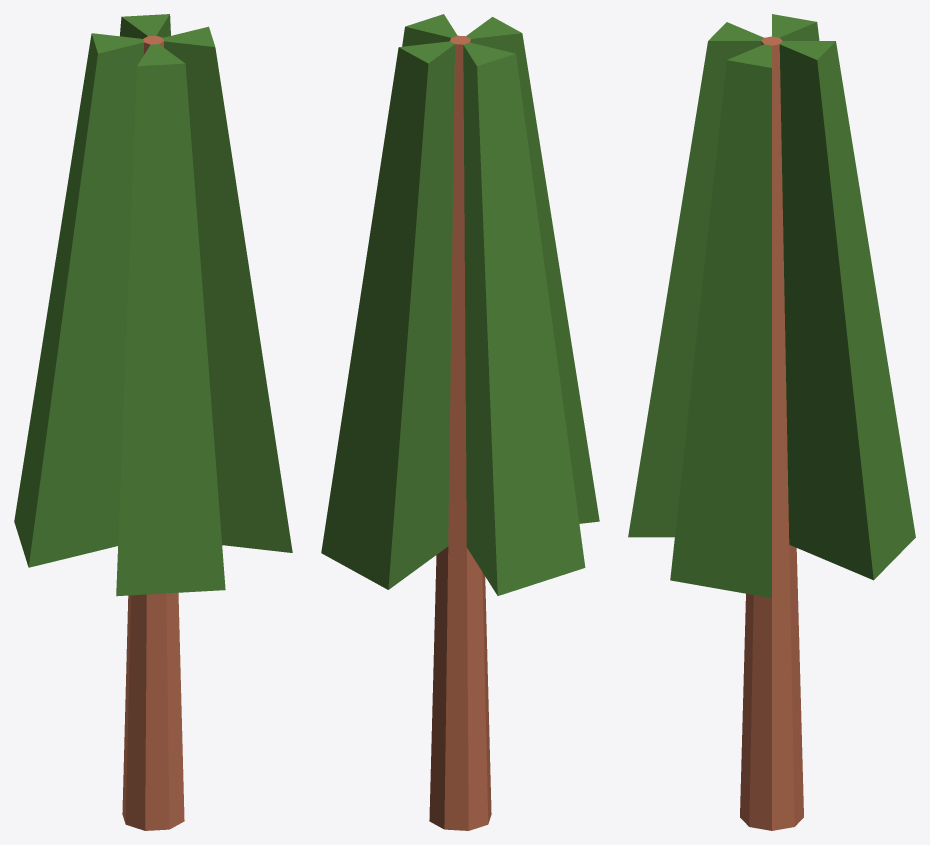
Rendered from Tree_28_summer_vc.fbx.
The picture shows the model from 3 angles, left to right: view 1: azimuth 30°, elevation 25°; view 2: azimuth 150°, elevation 25°; view 3: azimuth 270°, elevation 25°; orthographic projection.
Parts seen in each view (by area): view 1: Tree_28_summer_vc; view 2: Tree_28_summer_vc; view 3: Tree_28_summer_vc.
Part boxes in pixels (bbox=[...]): Tree_28_summer_vc: bbox=[14, 14, 292, 830]; Tree_28_summer_vc: bbox=[321, 14, 599, 830]; Tree_28_summer_vc: bbox=[628, 14, 915, 830].
Size of the model in its own units: 2.57 by 7.66 by 2.57.
